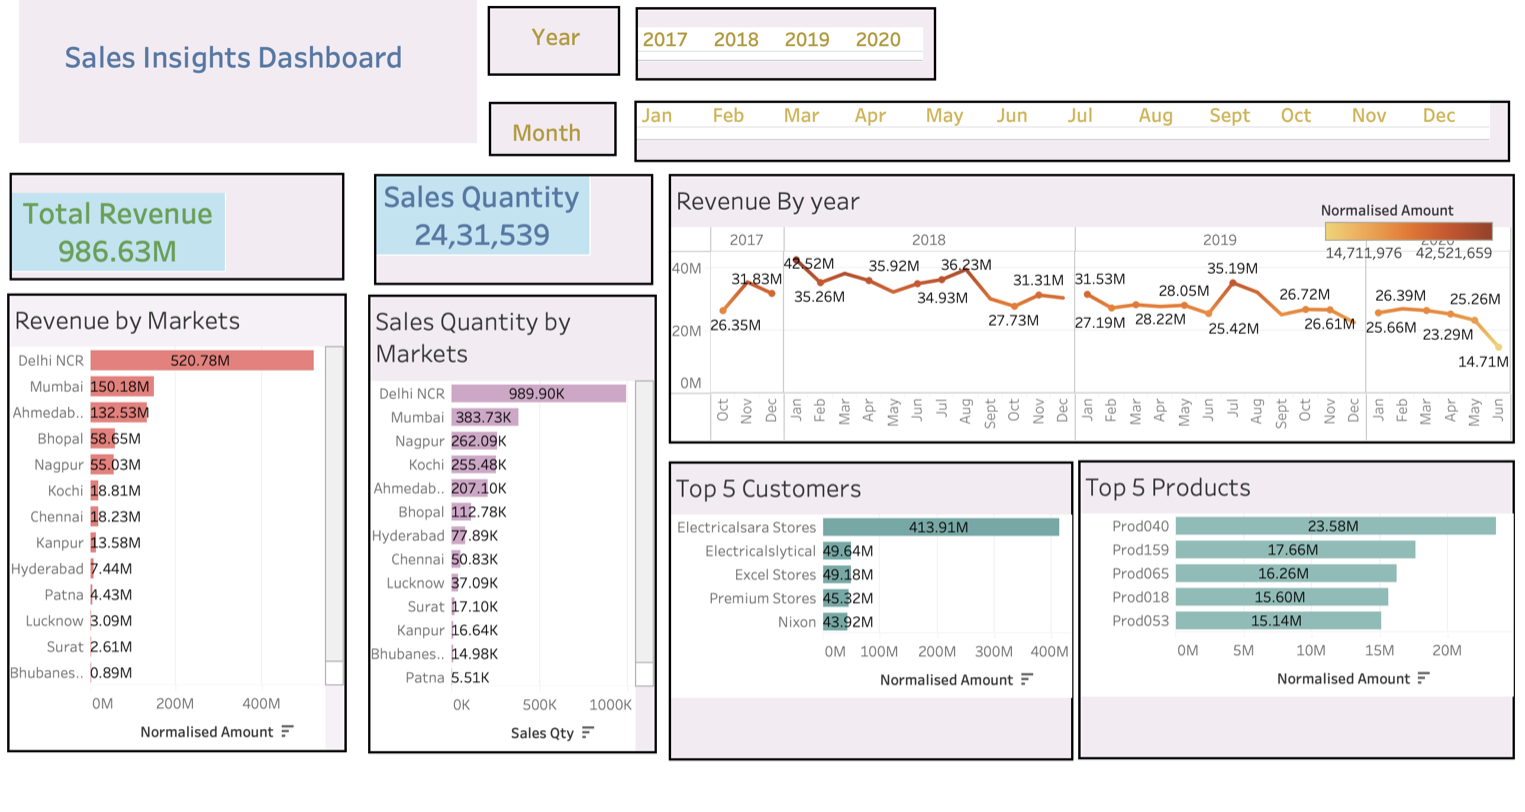

This screenshot's page, from the dashboard's own definition file:
{"tool":"tableau","page":{"name":"Sales Insights","canvas":[1600,900],"ordinal":0},"visuals":[{"type":"blank","box":[26,10,387,132]},{"type":"worksheet","title":"year","mark":"Automatic","cols":["cy_date"],"box":[662,19,254,62]},{"type":"text","box":[62,52,292,33]},{"type":"worksheet","title":"Month","mark":"Automatic","cols":["cy_date"],"box":[431,104,728,52]},{"type":"worksheet","title":"Revenue","mark":"Automatic","box":[18,167,283,91]},{"type":"worksheet","title":"Quantity","mark":"Automatic","box":[326,168,236,94]},{"type":"worksheet","title":"Revenue By year","mark":"Automatic","rows":["Calculation_361413891037044736"],"cols":["cy_date","cy_date"],"box":[575,168,715,228]},{"type":"legend","title":"Revenue By year","param":"[federated.0xo9zsc10s6giw1foonar0ssn96b].[sum:Calculation_361413891037044736:qk]","box":[1126.4,186,149.3,76]},{"type":"worksheet","title":"Revenue by Markets","mark":"Automatic","rows":["markets_name"],"cols":["Calculation_361413891037044736"],"box":[16,269,287,388]},{"type":"worksheet","title":"Sales Quantity by Markets","mark":"Automatic","rows":["markets_name"],"cols":["sales_qty"],"box":[321,270,244,388]},{"type":"worksheet","title":"Top 5 Products","mark":"Automatic","rows":["product_code (products)"],"cols":["Calculation_361413891037044736"],"box":[921,410,293,253]},{"type":"worksheet","title":"Top 5 Customers","mark":"Automatic","rows":["custmer_name"],"cols":["Calculation_361413891037044736"],"box":[575,411,342,253]}]}

Visuals, with their boxes on the page's 1600x900 design canvas (x1, y1, x2, y2). These are canvas units, not pixel positions in the 1525x812 screenshot, which may show the page scaled, cropped or inside an application window:
blank: {"x1": 26, "y1": 10, "x2": 413, "y2": 142}
"year" worksheet: {"x1": 662, "y1": 19, "x2": 916, "y2": 81}
text: {"x1": 62, "y1": 52, "x2": 354, "y2": 85}
"Month" worksheet: {"x1": 431, "y1": 104, "x2": 1159, "y2": 156}
"Revenue" worksheet: {"x1": 18, "y1": 167, "x2": 301, "y2": 258}
"Quantity" worksheet: {"x1": 326, "y1": 168, "x2": 562, "y2": 262}
"Revenue By year" worksheet: {"x1": 575, "y1": 168, "x2": 1290, "y2": 396}
"Revenue By year" legend: {"x1": 1126, "y1": 186, "x2": 1276, "y2": 262}
"Revenue by Markets" worksheet: {"x1": 16, "y1": 269, "x2": 303, "y2": 657}
"Sales Quantity by Markets" worksheet: {"x1": 321, "y1": 270, "x2": 565, "y2": 658}
"Top 5 Products" worksheet: {"x1": 921, "y1": 410, "x2": 1214, "y2": 663}
"Top 5 Customers" worksheet: {"x1": 575, "y1": 411, "x2": 917, "y2": 664}
